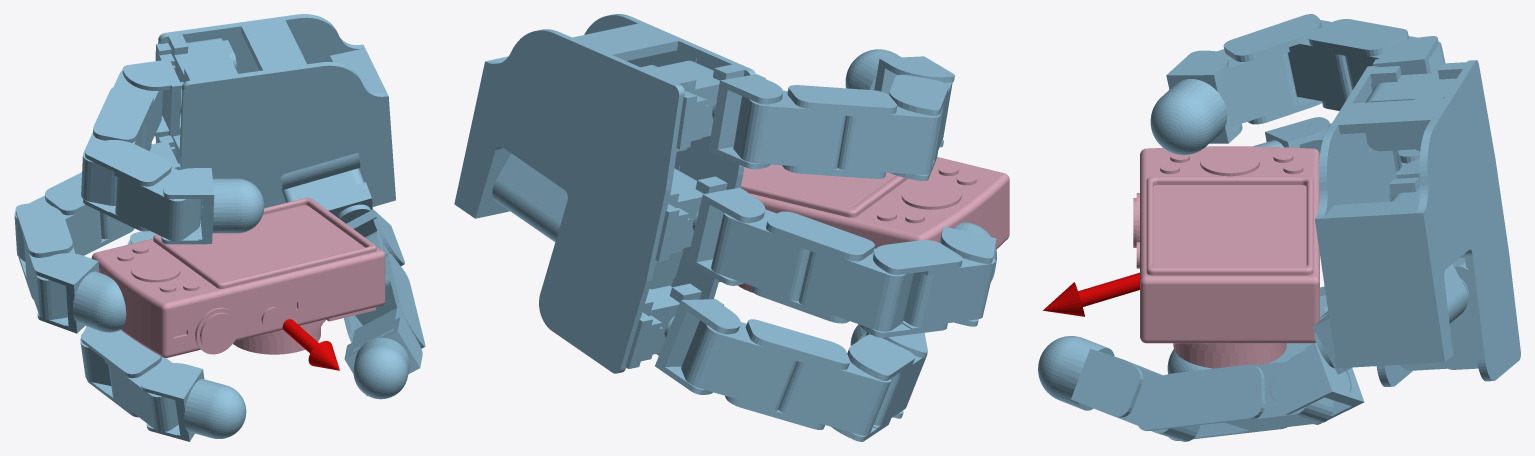
3 renders of one model, left to right at view 1: azimuth 30°, elevation 25°; view 2: azimuth 150°, elevation 25°; view 3: azimuth 270°, elevation 25°, orthographic. The views are drawn at different scales.
Parts seen in each view (by area): view 1: world, camera.stl; view 2: world, camera.stl; view 3: world, camera.stl.
Boxes of the visible parts, x1=… form: world: x1=14, y1=14, x2=425, y2=441; camera.stl: x1=91, y1=197, x2=385, y2=358; world: x1=454, y1=14, x2=996, y2=441; camera.stl: x1=738, y1=157, x2=1009, y2=292; world: x1=1038, y1=14, x2=1520, y2=441; camera.stl: x1=1133, y1=146, x2=1319, y2=368.
Bounding box in the file's own units: 0.1961 × 0.1525 × 0.1736.
